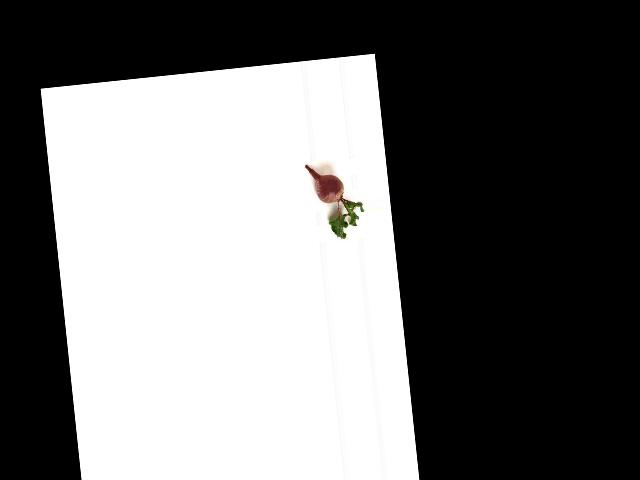beet: (304, 160, 366, 242)
